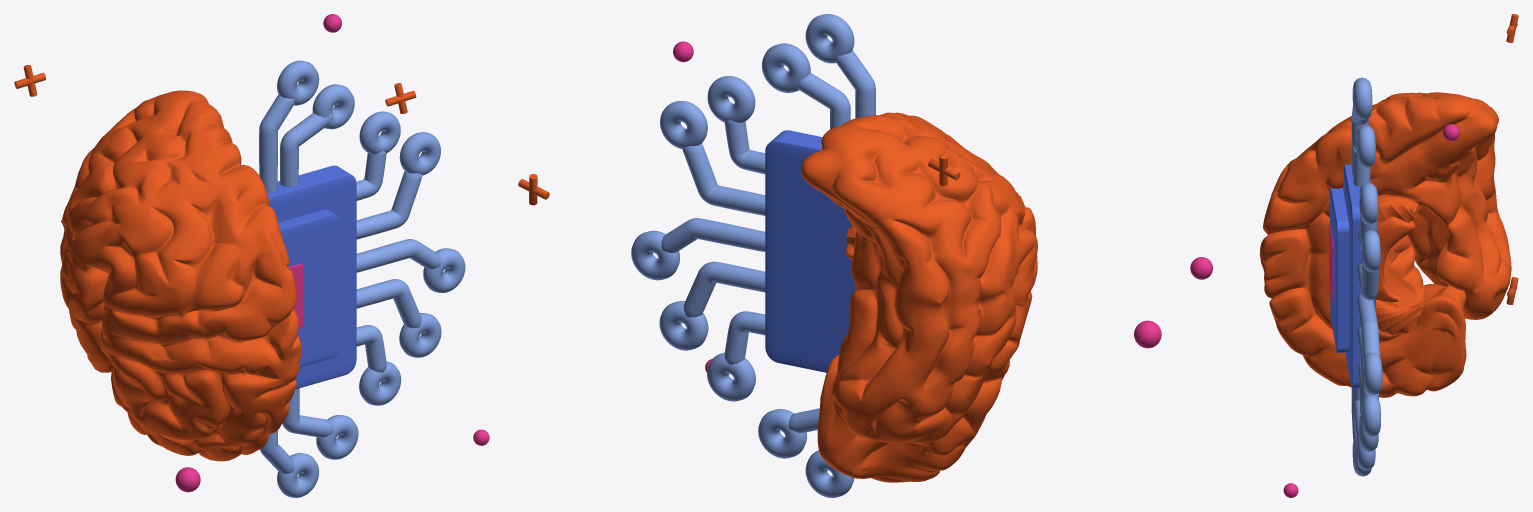
Rendered from artificial-intelligence-3d-animated-icon-1099259045721.glb.
3 renders of one model, left to right at view 1: azimuth 30°, elevation 25°; view 2: azimuth 150°, elevation 25°; view 3: azimuth 270°, elevation 25°, orthographic. The views are drawn at different scales.
Visible parts, largest first — view 1: Brain, chip, trail.012, trail.002, trail.005, trail.011, trail.004, trail.015, trail.001, trail.003, trail, element sphere.001; view 2: Brain, chip, trail.002, trail.005, trail.004, trail.012, trail.011, trail.003, trail.001, trail.015, trail; view 3: Brain, chip, trail.005, trail.002, trail.011, trail.012, trail.004, trail.001, trail.015, trail.003, element sphere.001, trail.
Part boxes in pixels (x1,y1,x2,y2): Brain: [60, 90, 301, 461]; chip: [267, 165, 356, 389]; trail.012: [259, 60, 319, 192]; trail.002: [356, 132, 440, 239]; trail.005: [356, 239, 465, 292]; trail.011: [280, 84, 354, 186]; trail.004: [356, 279, 441, 357]; trail.015: [282, 388, 358, 459]; trail.001: [356, 111, 400, 200]; trail.003: [356, 325, 401, 405]; trail: [260, 430, 319, 497]; element sphere.001: [175, 467, 200, 492]; Brain: [801, 112, 1037, 482]; chip: [765, 130, 855, 372]; trail.002: [660, 101, 765, 215]; trail.005: [631, 218, 765, 280]; trail.004: [659, 261, 765, 350]; trail.012: [805, 14, 875, 118]; trail.011: [761, 43, 850, 129]; trail.003: [707, 311, 765, 401]; trail.001: [707, 76, 765, 174]; trail.015: [758, 408, 819, 458]; trail: [805, 450, 854, 497]; Brain: [1259, 92, 1511, 397]; chip: [1329, 164, 1375, 388]; trail.005: [1357, 294, 1382, 395]; trail.002: [1357, 230, 1380, 300]; trail.011: [1353, 125, 1375, 186]; trail.012: [1351, 77, 1372, 174]; trail.004: [1357, 327, 1380, 436]; trail.001: [1357, 183, 1378, 249]; trail.015: [1353, 388, 1375, 470]; trail.003: [1357, 362, 1378, 451]; element sphere.001: [1190, 257, 1212, 279]; trail: [1351, 389, 1371, 476].
Bounding box in the file's own units: 4.72 × 4.81 × 3.62.
